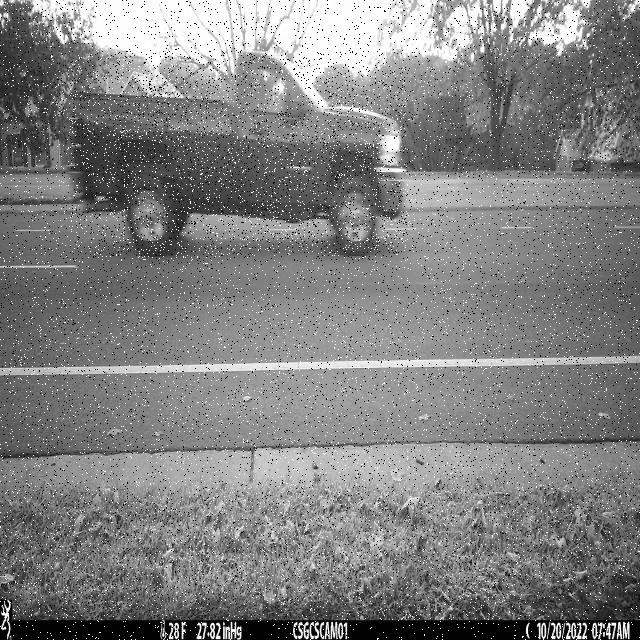Pickup: (69, 51, 406, 258)
